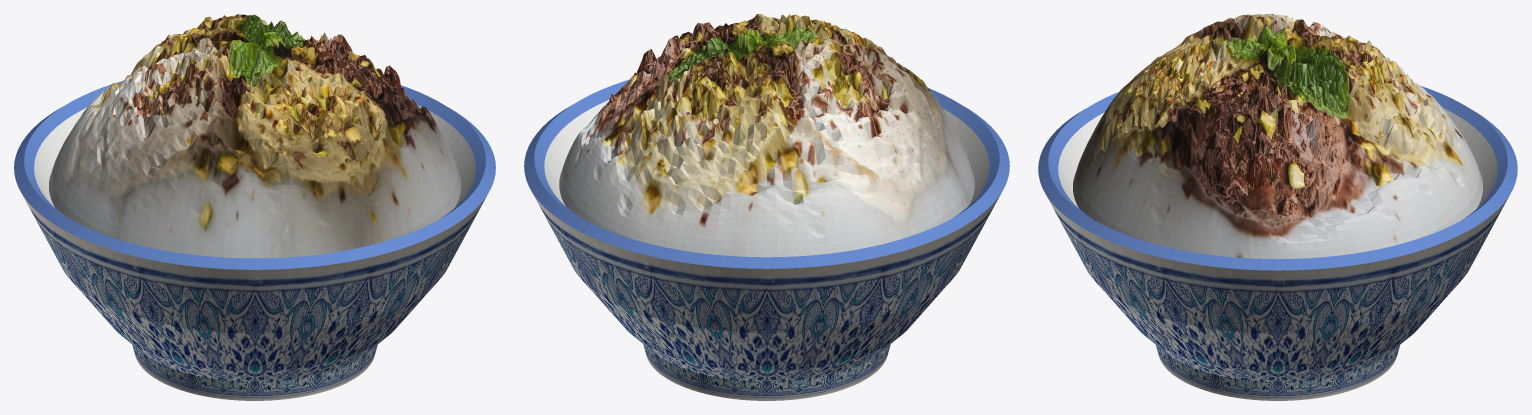
The model's file is muz.glb.
3 views of the same model, side by side, from view 1: azimuth 30°, elevation 25°; view 2: azimuth 150°, elevation 25°; view 3: azimuth 270°, elevation 25° (orthographic).
Parts seen in each view (by area): view 1: muz_4, muz_0, muz_1, muz_2; view 2: muz_4, muz_0, muz_1, muz_2; view 3: muz_4, muz_0, muz_1, muz_2.
Boxes of the visible parts, x1=… form: muz_4: x1=49, y1=14, x2=460, y2=258; muz_0: x1=23, y1=196, x2=486, y2=400; muz_1: x1=14, y1=81, x2=495, y2=269; muz_2: x1=34, y1=105, x2=475, y2=206; muz_4: x1=559, y1=14, x2=974, y2=257; muz_0: x1=533, y1=194, x2=1000, y2=400; muz_1: x1=524, y1=79, x2=1009, y2=268; muz_2: x1=544, y1=100, x2=989, y2=205; muz_4: x1=1073, y1=14, x2=1482, y2=258; muz_0: x1=1047, y1=197, x2=1508, y2=400; muz_1: x1=1038, y1=86, x2=1517, y2=270; muz_2: x1=1058, y1=108, x2=1497, y2=207.
Size of the model in its own units: 0.12 by 0.0868 by 0.12.
Materials: 5 (2 with a texture image).
